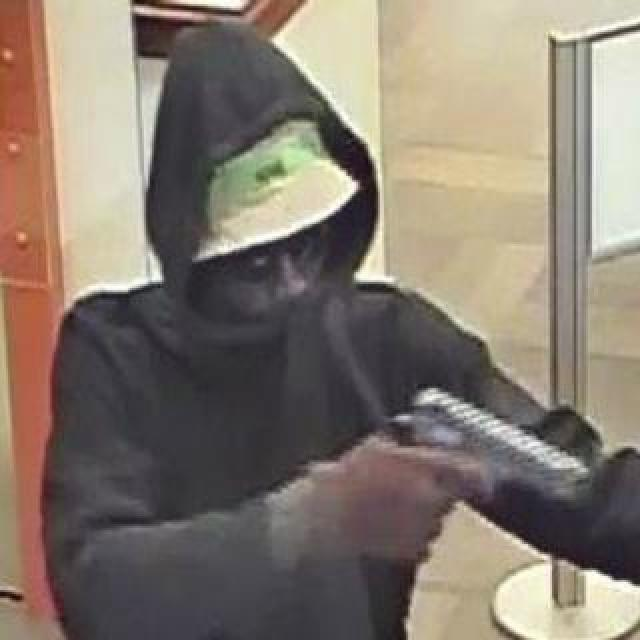Guns: (375, 367, 611, 528)
